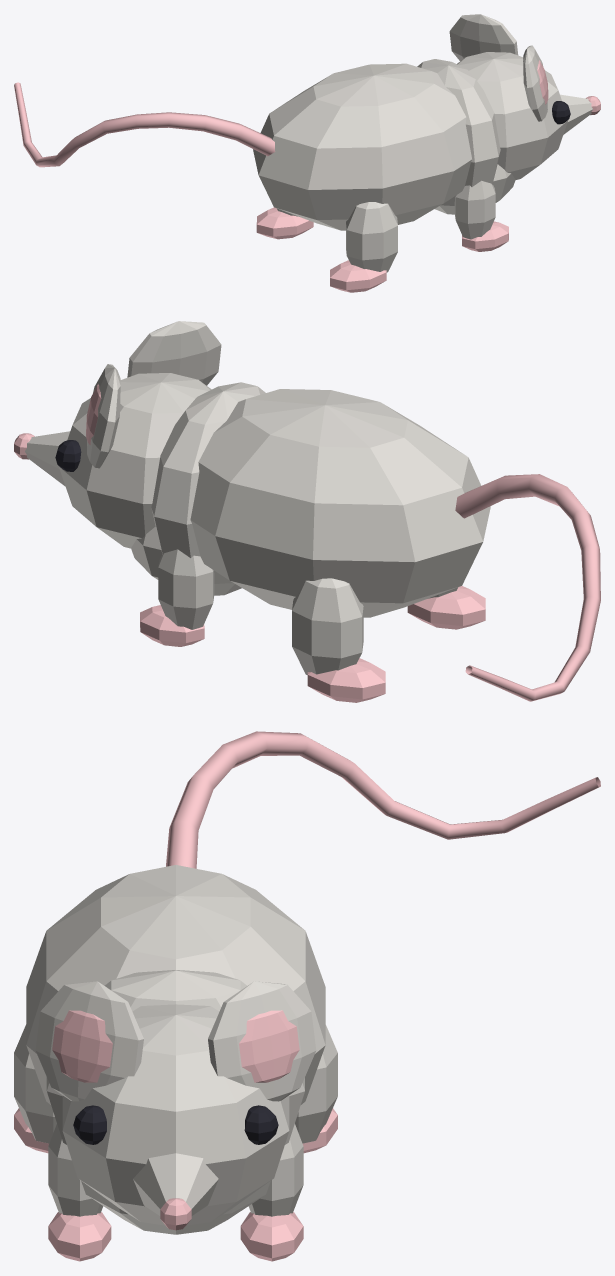
File: animal_mouse.glb
3 renders of one model, top to bottom at view 1: azimuth 30°, elevation 25°; view 2: azimuth 150°, elevation 25°; view 3: azimuth 270°, elevation 25°, orthographic. The views are drawn at different scales.
Visible parts, largest first — view 1: Fare; view 2: Fare; view 3: Fare.
Boxes of the visible parts, bbox=[...] form: Fare: bbox=[14, 14, 600, 292]; Fare: bbox=[14, 321, 600, 702]; Fare: bbox=[14, 731, 600, 1261].
Bounding box in the file's own units: 5.64 × 2.08 × 3.54.
